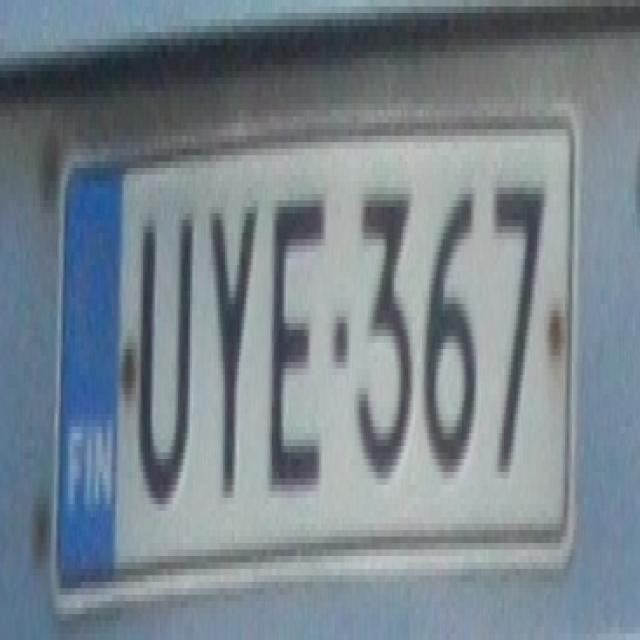3: (342, 168, 420, 472)
6: (415, 168, 490, 472)
7: (478, 168, 554, 472)
E: (256, 174, 333, 492)
U: (130, 194, 200, 498)
Y: (200, 181, 266, 498)
